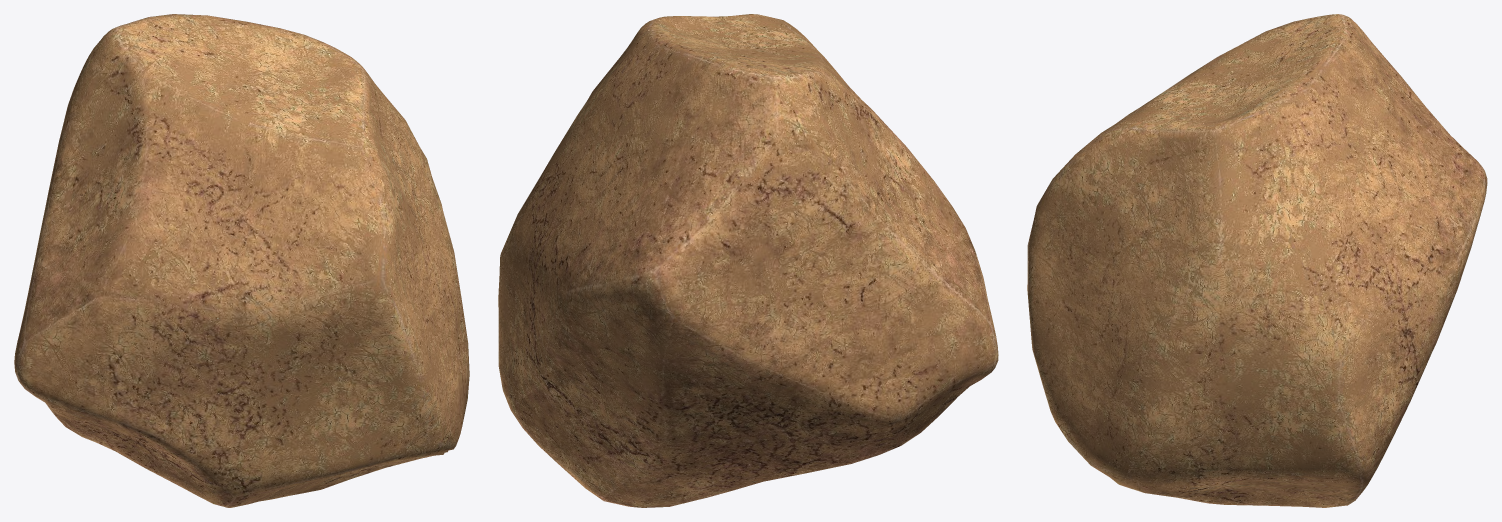
File: stone2.glb
3 renders of one model, left to right at view 1: azimuth 30°, elevation 25°; view 2: azimuth 150°, elevation 25°; view 3: azimuth 270°, elevation 25°, orthographic. The views are drawn at different scales.
Visible parts, largest first — view 1: rock_01; view 2: rock_01; view 3: rock_01.
Boxes of the visible parts, x1=… form: rock_01: x1=14, y1=14, x2=469, y2=507; rock_01: x1=498, y1=14, x2=998, y2=507; rock_01: x1=1027, y1=14, x2=1487, y2=507.
Size of the model in its own units: 1.95 by 2 by 1.95.
1 material, 1 textured.
